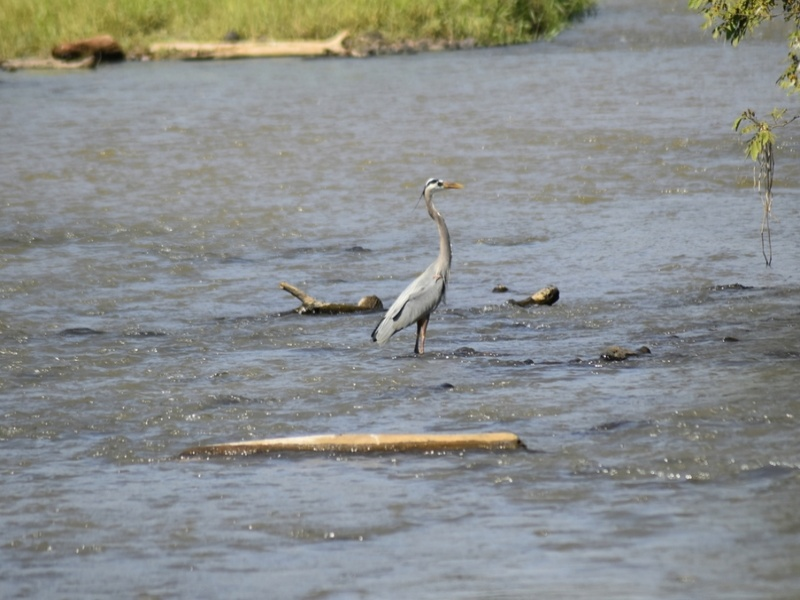heron: (366, 174, 463, 357)
